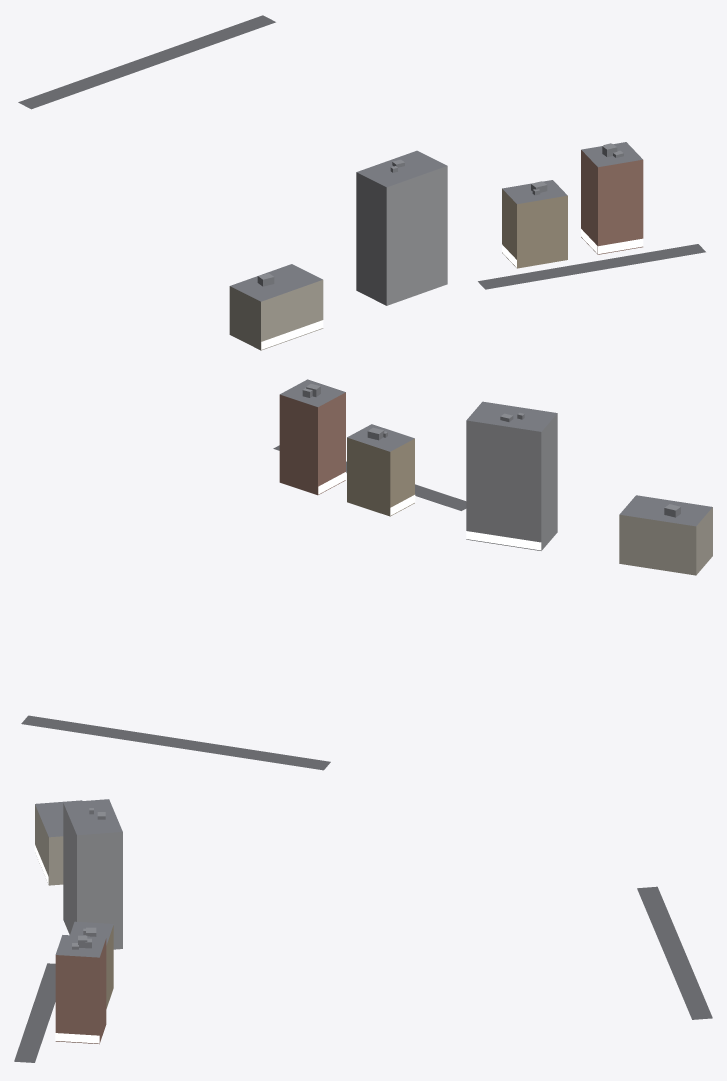
3 renders of one model, top to bottom at view 1: azimuth 30°, elevation 25°; view 2: azimuth 150°, elevation 25°; view 3: azimuth 270°, elevation 25°, orthographic.
Size of the model in its own units: 196 by 50.68 by 265.
